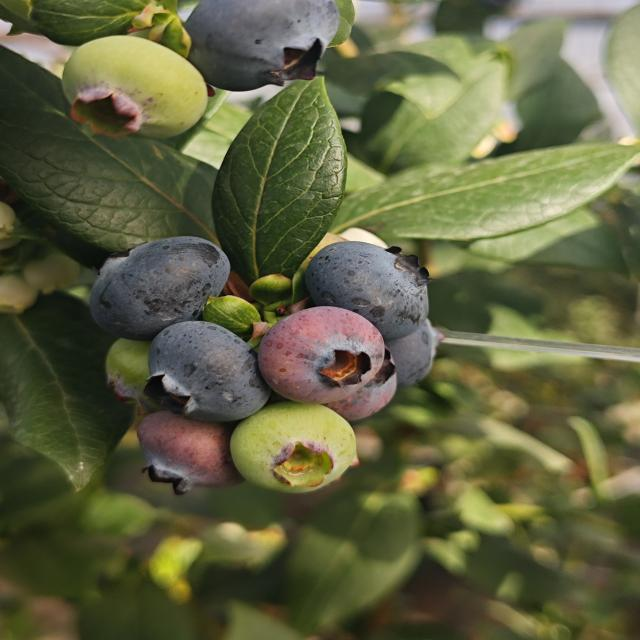ripe: (181, 0, 358, 95), (82, 232, 233, 343), (301, 236, 440, 343), (141, 320, 267, 424), (370, 314, 449, 390)
